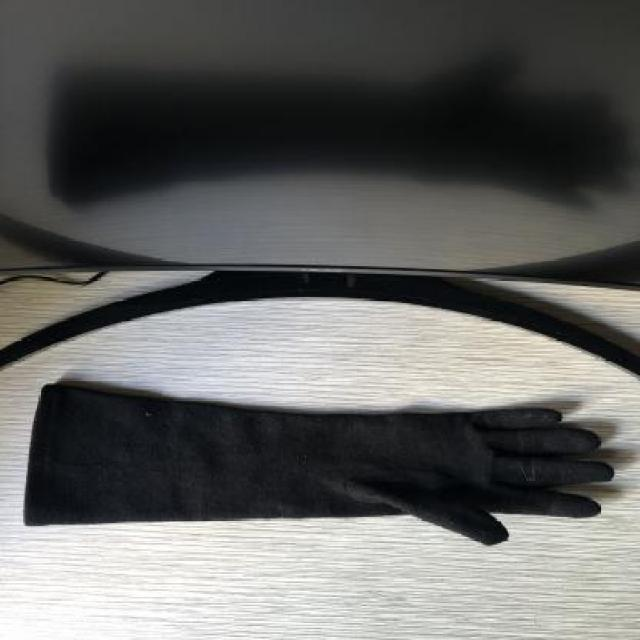glove: (23, 378, 614, 546)
